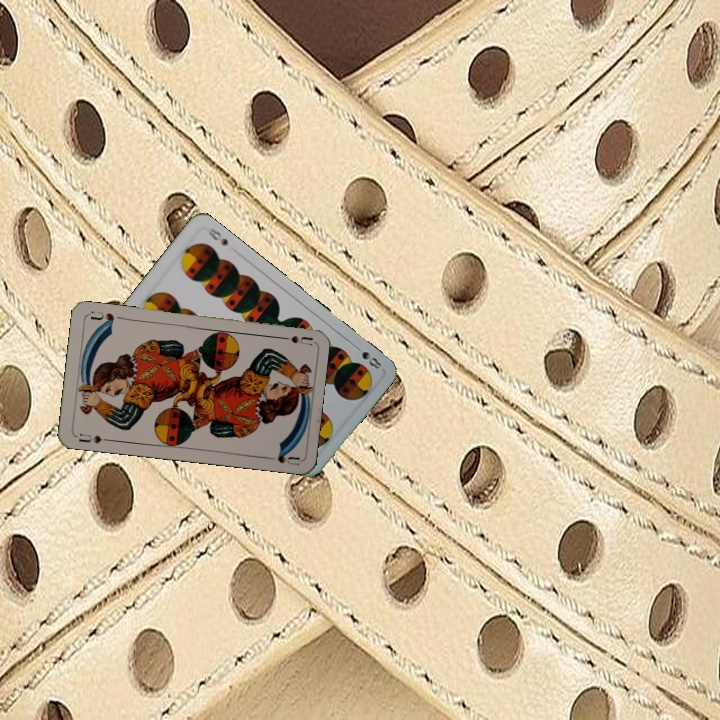S8: (349, 341, 384, 372)
SU: (273, 331, 314, 348), (74, 430, 113, 446)
